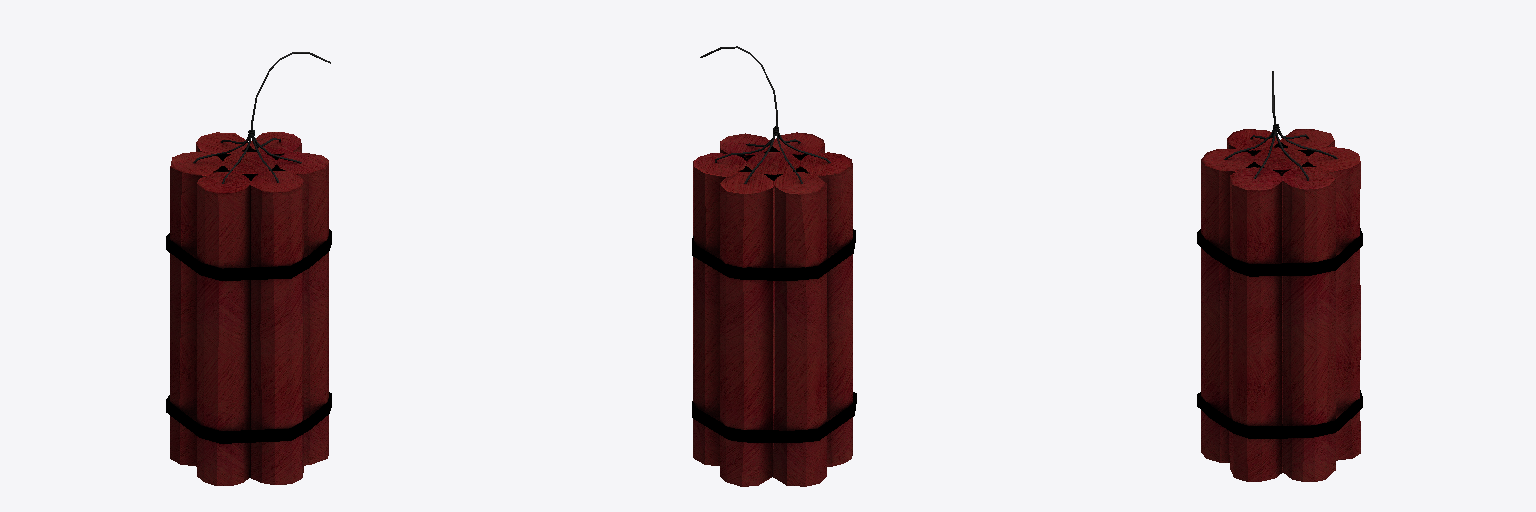
3 views of the same model, side by side, from view 1: azimuth 30°, elevation 25°; view 2: azimuth 150°, elevation 25°; view 3: azimuth 270°, elevation 25° (orthographic).
Parts seen in each view (by area): view 1: default; view 2: default; view 3: default.
Boxes of the visible parts, x1,y1,x2,y2 form: default: [166, 52, 331, 485]; default: [692, 46, 856, 486]; default: [1197, 71, 1362, 481].
Bounding box in the file's own units: 6.71 × 17.79 × 6.71.
Materials: 1 (1 with a texture image).